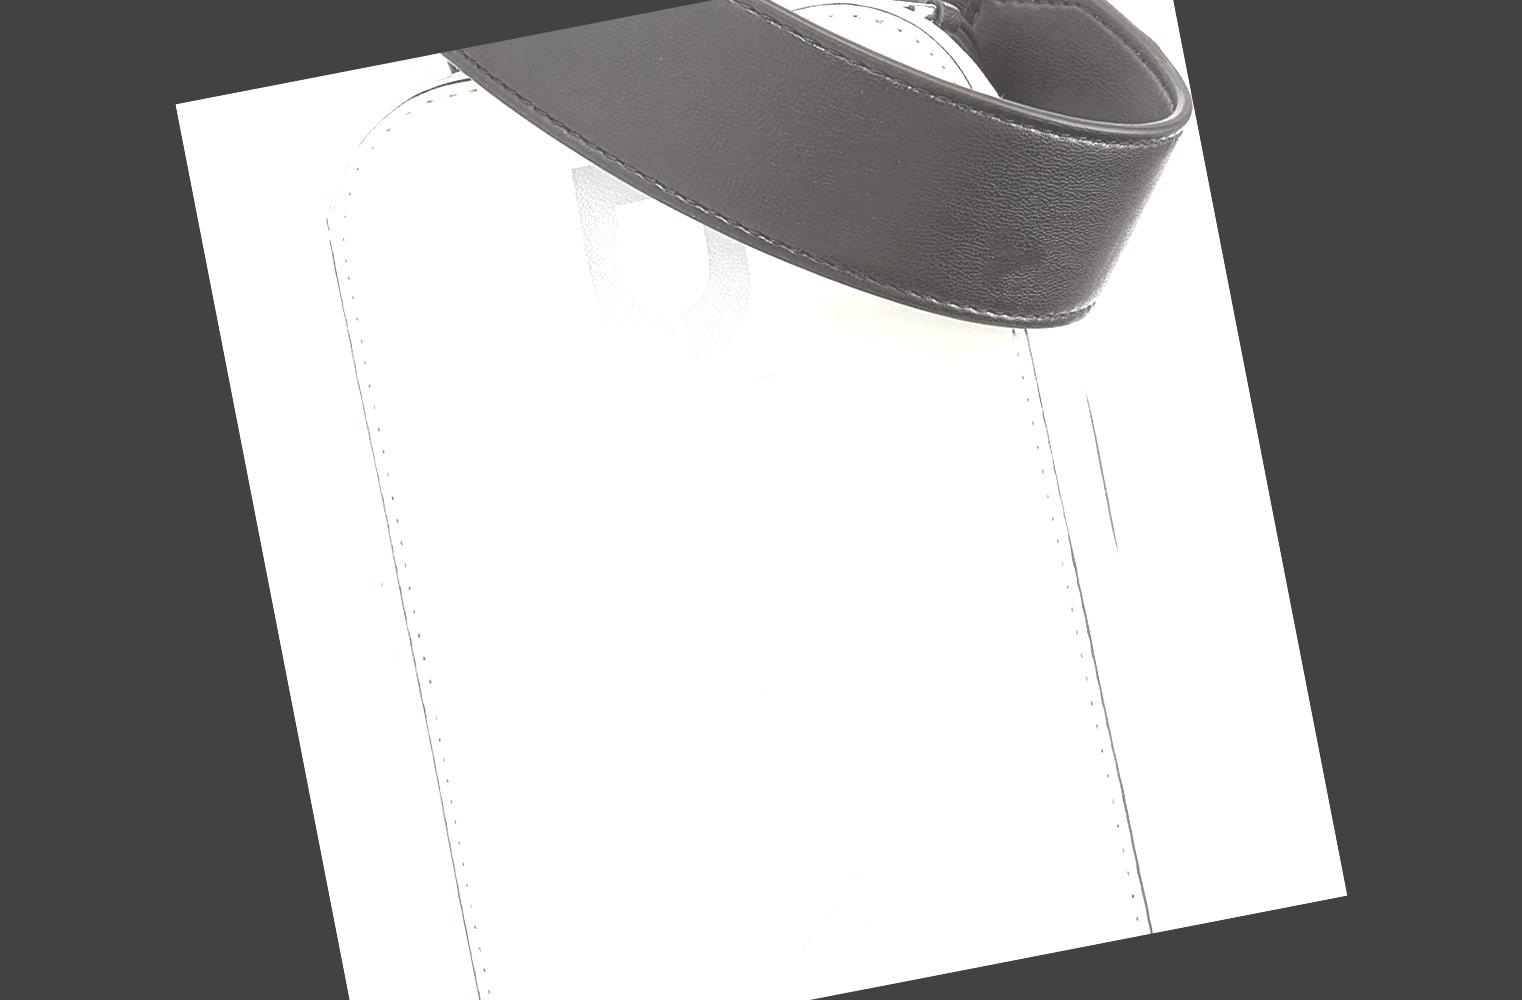DKNY: (565, 138, 896, 1000)
